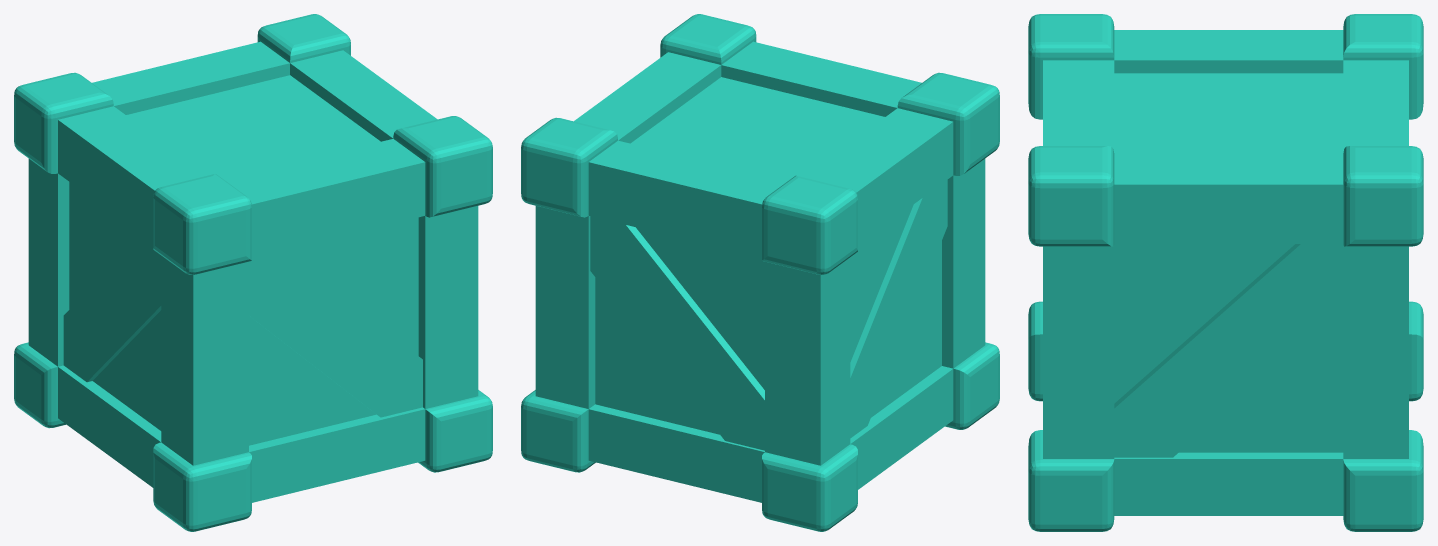
File: ME_BrockenBox.fbx
The picture shows the model from 3 angles, left to right: view 1: azimuth 30°, elevation 25°; view 2: azimuth 150°, elevation 25°; view 3: azimuth 270°, elevation 25°; orthographic projection. The views are drawn at different scales.
Visible parts, largest first — view 1: ME_Box_01_Part_6, ME_Box_01_Part_5, ME_Box_01_Part_2, ME_Box_01_Part_10, ME_Box_01_Part_4, ME_Box_01_Part_1, ME_Box_01_Part_9, ME_Box_01_Part_7; view 2: ME_Box_01_Part_2, ME_Box_01_Part_7, ME_Box_01_Part_5, ME_Box_01_Part_6, ME_Box_01_Part_10, ME_Box_01_Part_4, ME_Box_01_Part_1, ME_Box_01_Part_8; view 3: ME_Box_01_Part_4, ME_Box_01_Part_2, ME_Box_01_Part_8, ME_Box_01_Part_7, ME_Box_01_Part_3, ME_Box_01_Part_5, ME_Box_01_Part_10, ME_Box_01_Part_1, ME_Box_01_Part_6.
Part boxes in pixels (left/top/right/bottom): ME_Box_01_Part_6: left=72, top=362, right=474, bottom=531; ME_Box_01_Part_5: left=14, top=82, right=248, bottom=370; ME_Box_01_Part_2: left=32, top=14, right=394, bottom=175; ME_Box_01_Part_10: left=152, top=170, right=332, bottom=410; ME_Box_01_Part_4: left=380, top=88, right=492, bottom=452; ME_Box_01_Part_1: left=342, top=131, right=433, bottom=397; ME_Box_01_Part_9: left=221, top=173, right=357, bottom=395; ME_Box_01_Part_7: left=14, top=283, right=80, bottom=428; ME_Box_01_Part_2: left=521, top=67, right=848, bottom=372; ME_Box_01_Part_7: left=521, top=244, right=865, bottom=531; ME_Box_01_Part_5: left=794, top=92, right=978, bottom=413; ME_Box_01_Part_6: left=861, top=291, right=999, bottom=484; ME_Box_01_Part_10: left=831, top=64, right=999, bottom=326; ME_Box_01_Part_4: left=617, top=14, right=754, bottom=89; ME_Box_01_Part_1: left=710, top=29, right=823, bottom=86; ME_Box_01_Part_8: left=521, top=170, right=606, bottom=256; ME_Box_01_Part_4: left=1028, top=146, right=1229, bottom=519; ME_Box_01_Part_2: left=1065, top=21, right=1423, bottom=215; ME_Box_01_Part_8: left=1136, top=186, right=1423, bottom=435; ME_Box_01_Part_7: left=1290, top=290, right=1423, bottom=531; ME_Box_01_Part_3: left=1028, top=377, right=1316, bottom=531; ME_Box_01_Part_5: left=1081, top=14, right=1423, bottom=97; ME_Box_01_Part_10: left=1028, top=14, right=1121, bottom=119; ME_Box_01_Part_1: left=1043, top=115, right=1130, bottom=155; ME_Box_01_Part_6: left=1028, top=301, right=1042, bottom=401.
Bounding box in the file's own units: 5.4 × 5.4 × 5.4.
